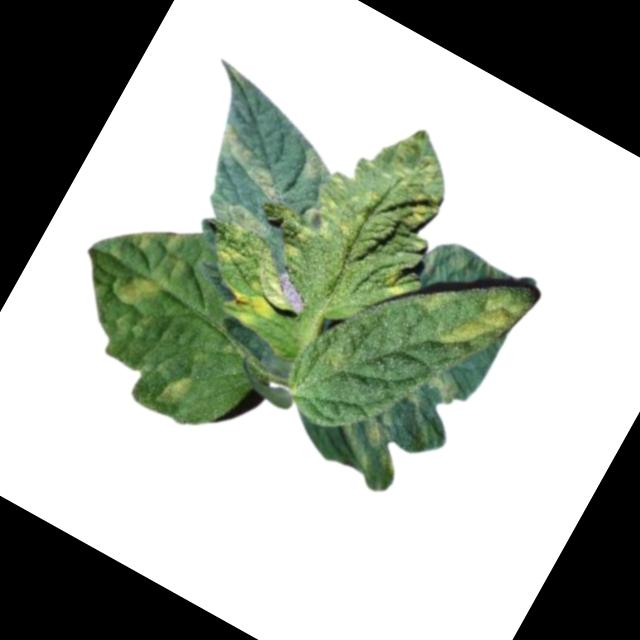Leaf_Mold: (302, 100, 480, 283), (431, 266, 535, 376), (100, 213, 197, 321), (322, 396, 420, 496), (201, 120, 299, 204), (212, 273, 289, 340), (204, 189, 282, 249), (155, 363, 198, 413), (424, 365, 472, 408), (297, 140, 339, 182), (379, 264, 417, 302)
